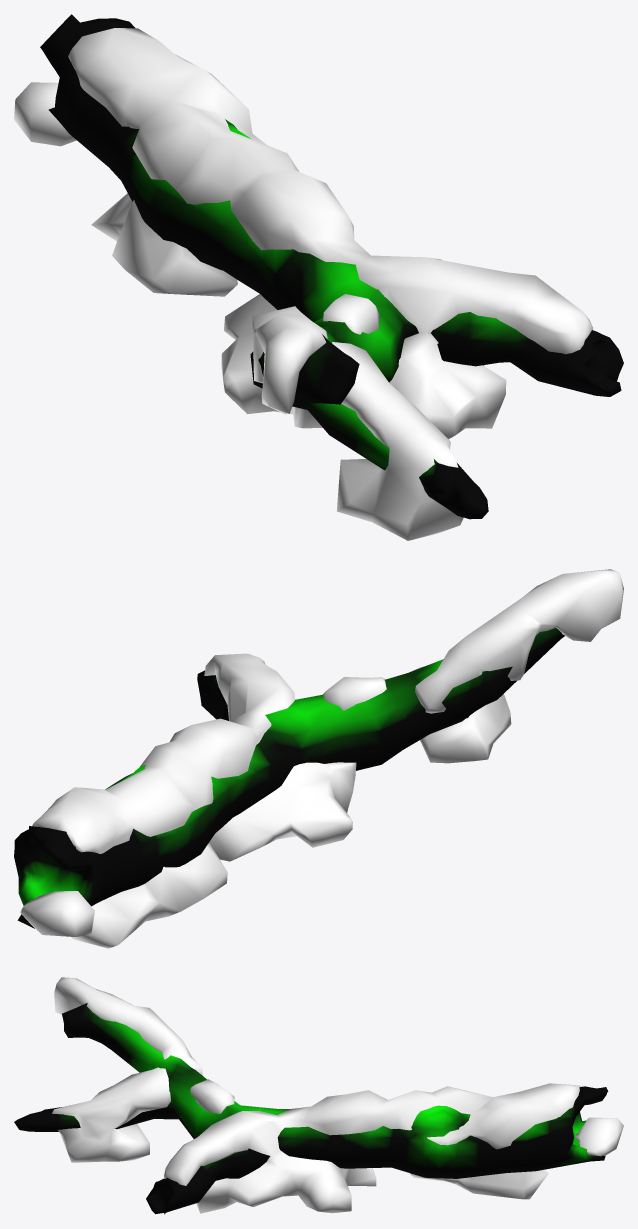
File: SM_OakFallen1_SnowCover.fbx
The picture shows the model from 3 angles, top to bottom: view 1: azimuth 30°, elevation 25°; view 2: azimuth 150°, elevation 25°; view 3: azimuth 270°, elevation 25°; orthographic projection. The views are drawn at different scales.
Parts seen in each view (by area): view 1: SM_OakFallen1_SnowCover; view 2: SM_OakFallen1_SnowCover; view 3: SM_OakFallen1_SnowCover.
Boxes of the visible parts, left/top/right/bottom form: SM_OakFallen1_SnowCover: left=14, top=14, right=623, bottom=540; SM_OakFallen1_SnowCover: left=14, top=569, right=623, bottom=948; SM_OakFallen1_SnowCover: left=14, top=977, right=623, bottom=1214.
Size of the model in its own units: 435 by 249 by 881.
